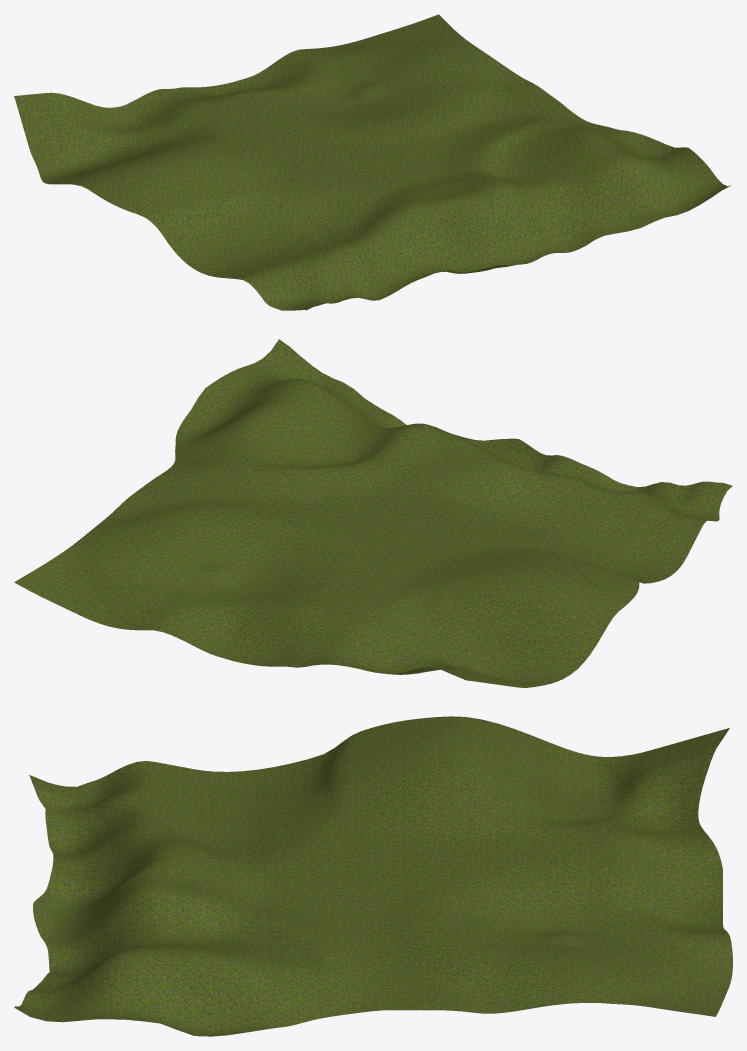
File: decor01.obj
The picture shows the model from 3 angles, top to bottom: view 1: azimuth 30°, elevation 25°; view 2: azimuth 150°, elevation 25°; view 3: azimuth 270°, elevation 25°; orthographic projection. The views are drawn at different scales.
Visible parts, largest first — view 1: Plan.010_Plan.002; view 2: Plan.010_Plan.002; view 3: Plan.010_Plan.002.
Boxes of the visible parts, <box> form: Plan.010_Plan.002: <box>14,14,731,310</box>; Plan.010_Plan.002: <box>14,339,732,687</box>; Plan.010_Plan.002: <box>14,716,732,1036</box>.
Size of the model in its own units: 14817 by 1540 by 14285.
1 material, 1 textured.
